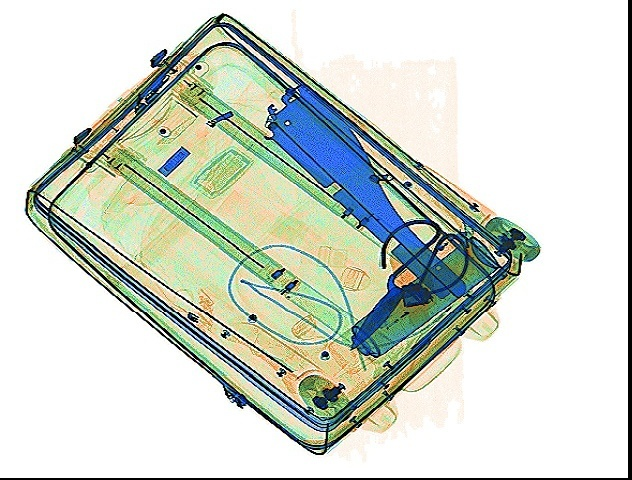lighter: (428, 220, 476, 266), (374, 298, 423, 330)
pressure: (324, 233, 499, 376)
scissors: (349, 217, 468, 353)
